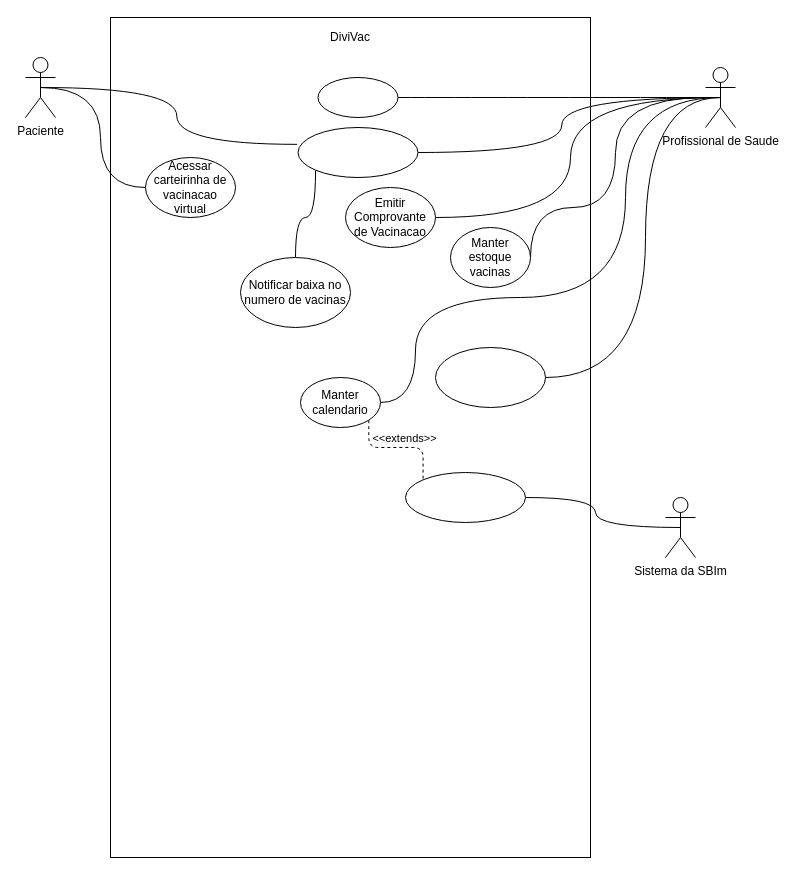
The diagram is 796 pixels wide and 875 high, and some of its shapes have lost their labels. Here are the shapes that lost their labels. From the top down, the centre of each, then its label:
At pixel 357 97: "Manter paciente".
At pixel 357 152: "realizar agendamento da aplicacao".
At pixel 490 377: "Emitir extrato de movimentacao de estoque".
At pixel 465 497: "Sincronizar calendario municipal".
